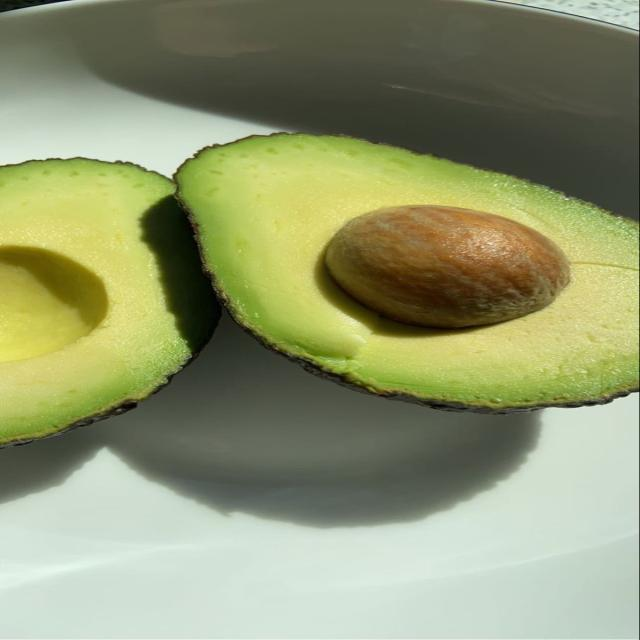avocado: (176, 134, 638, 412), (0, 159, 217, 445)
